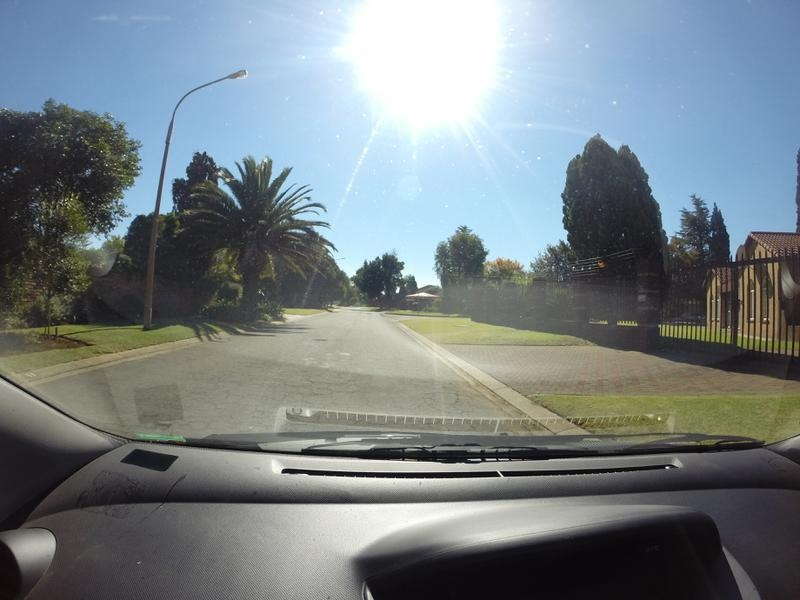pothole: (151, 413, 172, 430)
